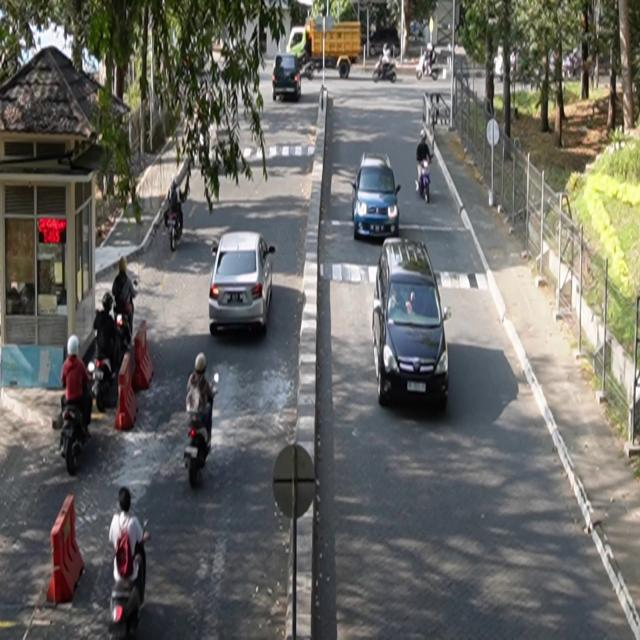car: (373, 238, 452, 411), (209, 231, 277, 337), (352, 152, 402, 241)
truck: (287, 16, 362, 80)
